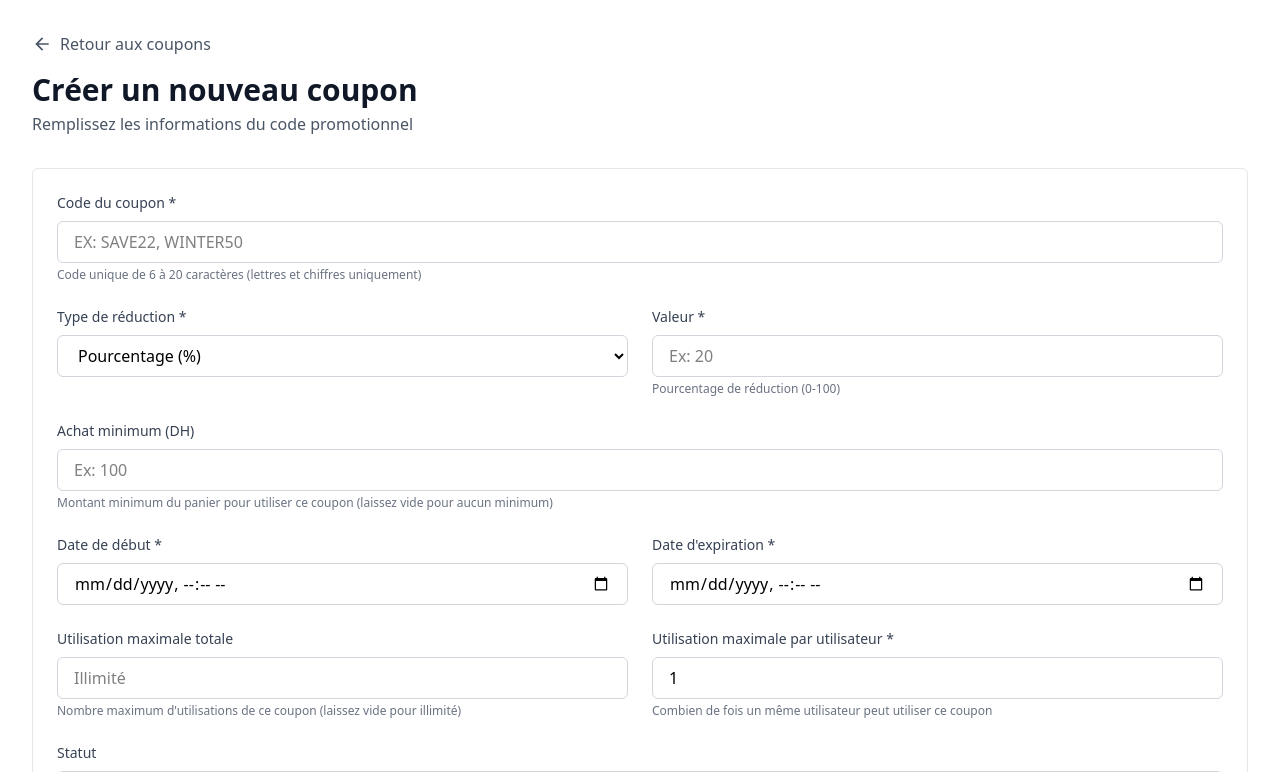
it: AddCoupon Form › Affiche des erreurs de validation - code court et valeur négative
The width and height of the screenshot is (1280, 772).
Type "test" into the field labelled "Code du coupon *".
click(640, 242); type("test")  # box [57,221,1223,263]
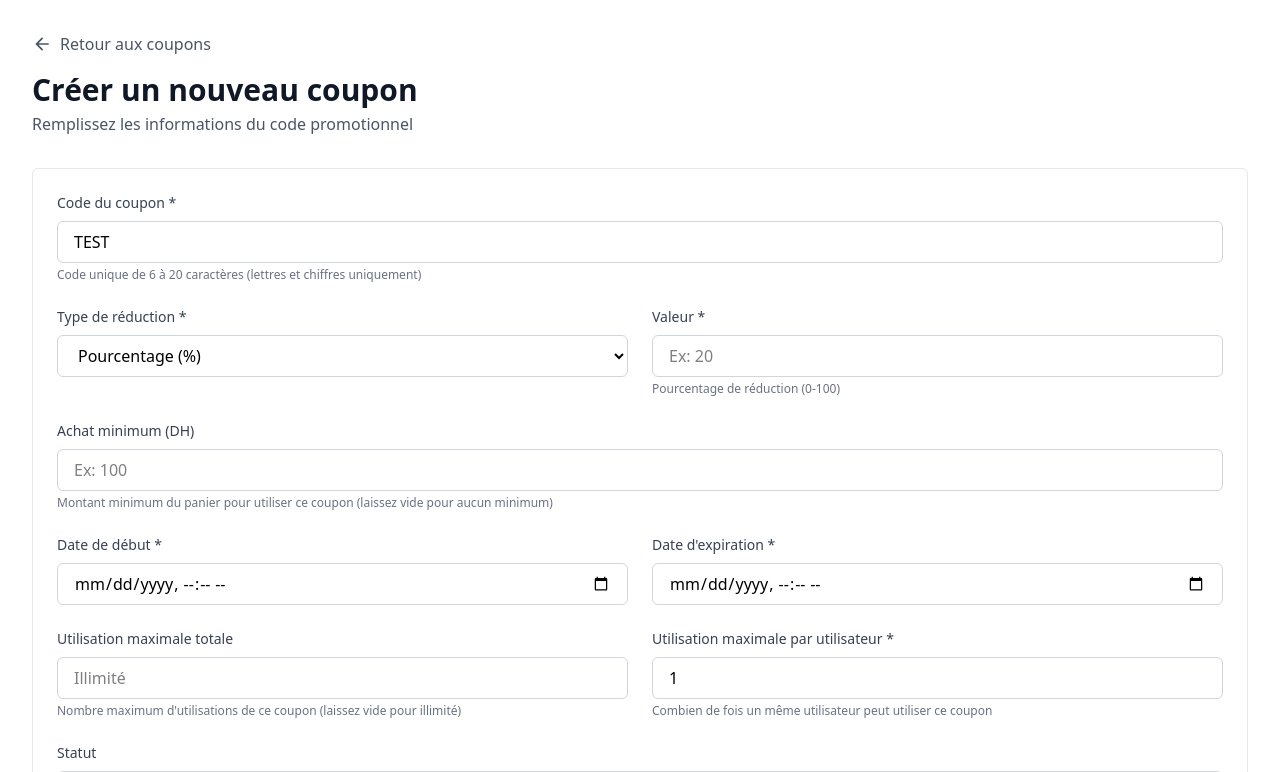
Type "-10" into the number field labelled "Valeur *".
click(938, 356); type("-10")  # box [652,335,1223,377]
(page scrolled)
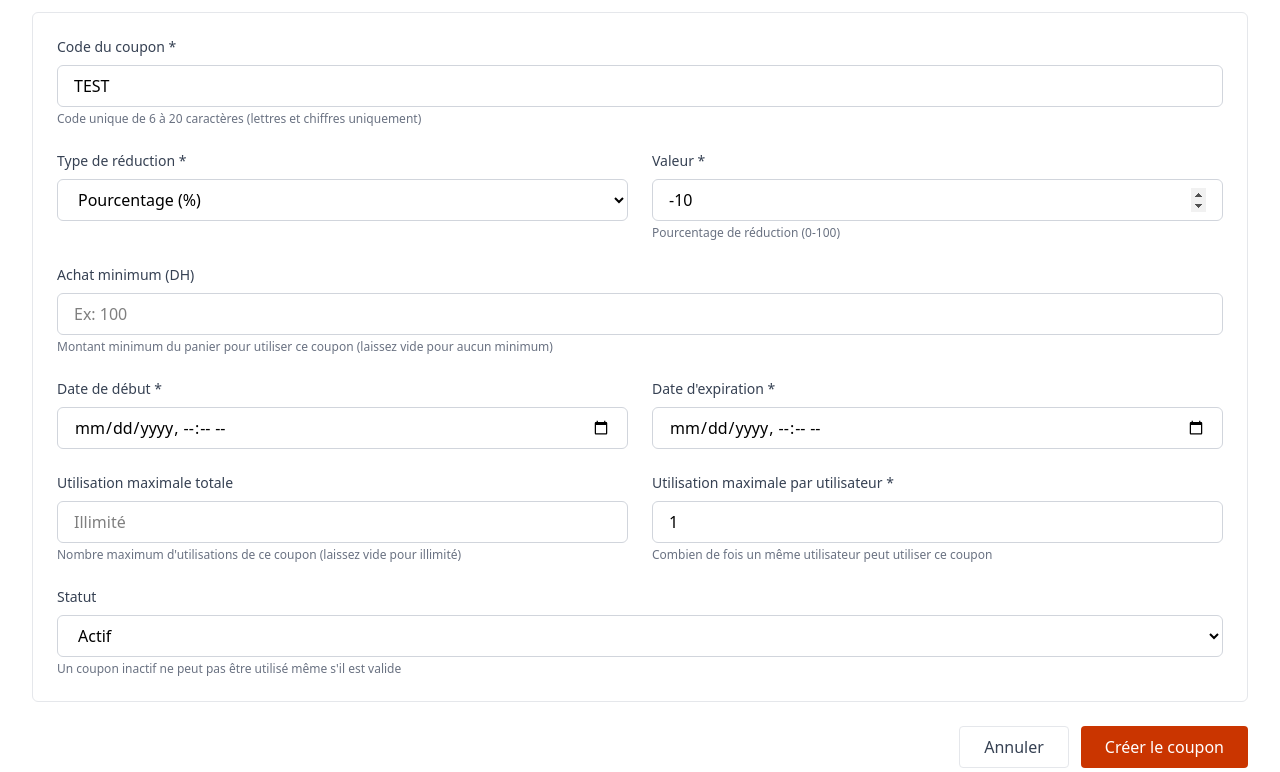
Click the button "Créer le coupon".
click(1164, 747)  # box [1081,726,1248,768]
(page scrolled)
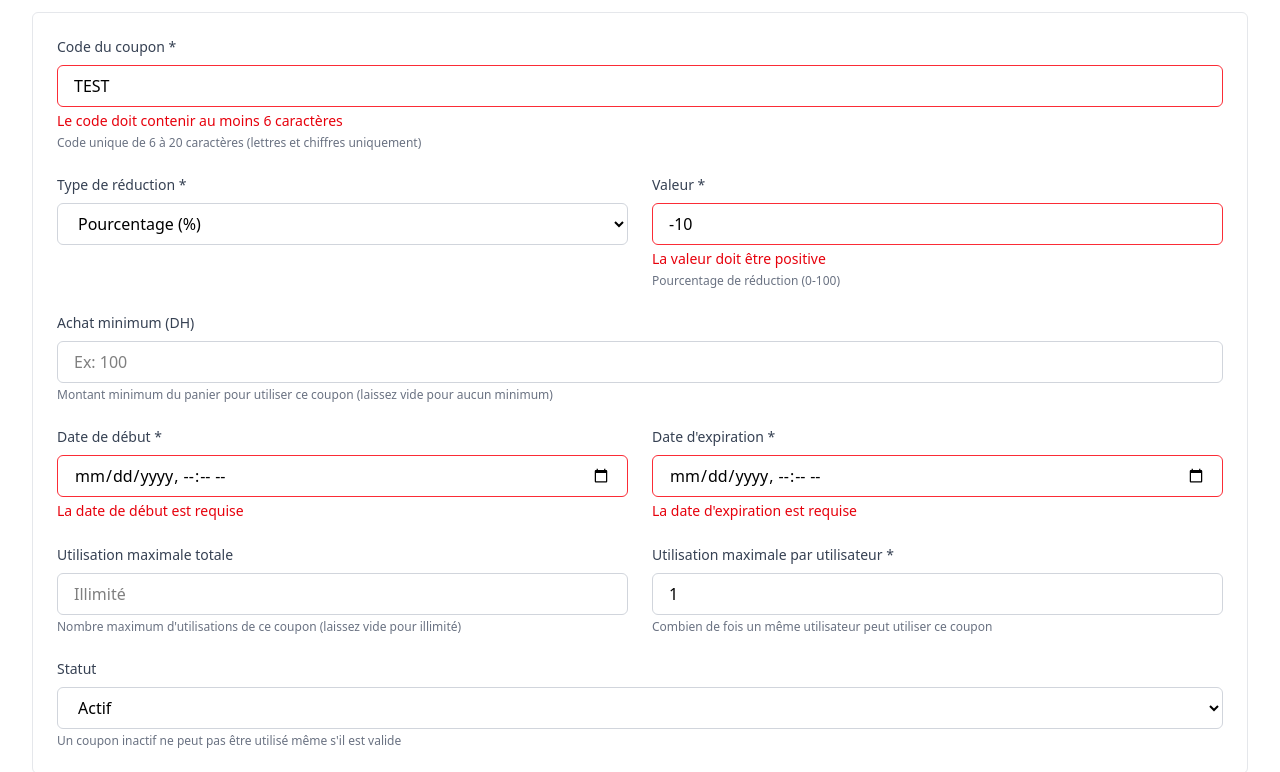
expect the text "Le code doit contenir au moins 6 caractères" is shown: met, box [57,111,343,130]
expect the text "La valeur doit être positive" is shown: met, box [652,249,826,268]
